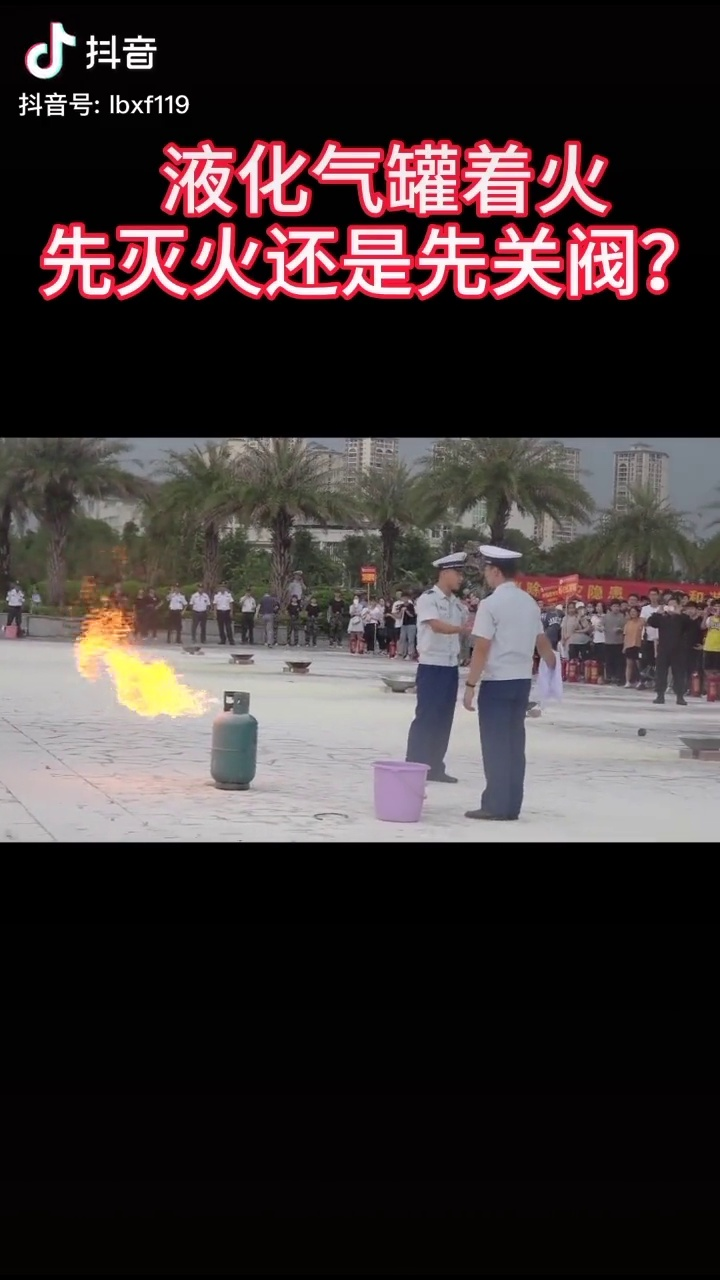fire: (74, 604, 202, 718)
